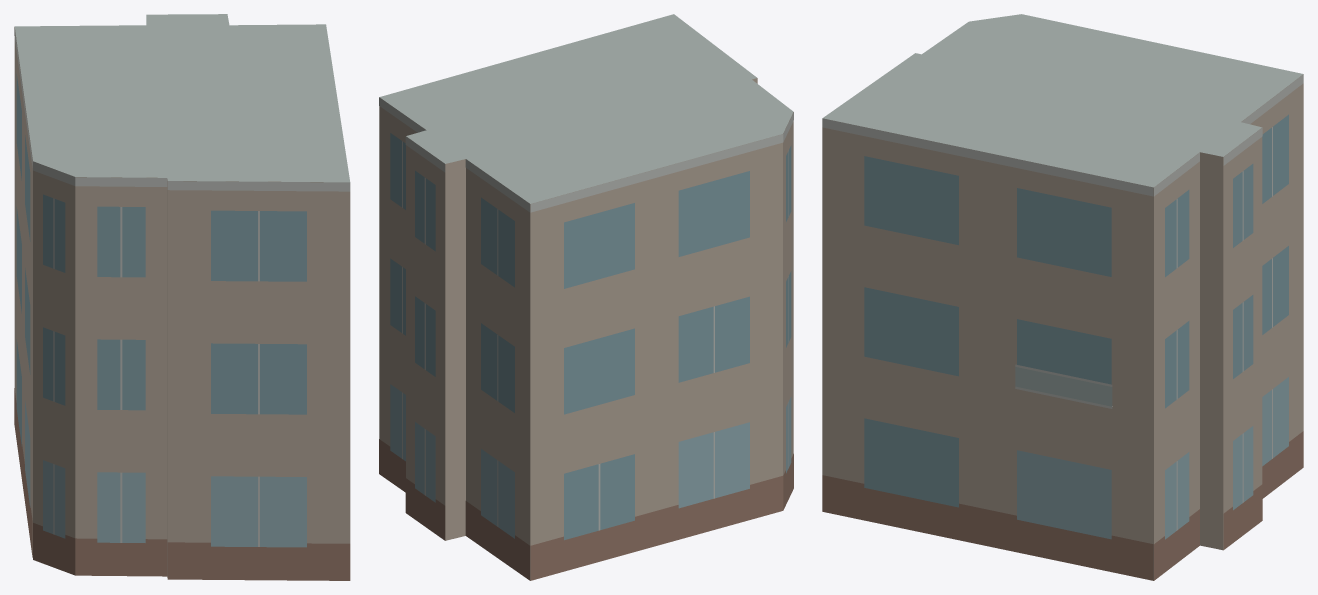
The model's file is survey-upis-32495015.glb.
3 views of the same model, side by side, from view 1: azimuth 30°, elevation 25°; view 2: azimuth 150°, elevation 25°; view 3: azimuth 270°, elevation 25° (orthographic). The views are drawn at different scales.
Parts seen in each view (by area): view 1: survey-upis-32495015.tmp; view 2: survey-upis-32495015.tmp; view 3: survey-upis-32495015.tmp.
Boxes of the visible parts, bbox=[...] form: survey-upis-32495015.tmp: bbox=[14, 14, 350, 580]; survey-upis-32495015.tmp: bbox=[379, 14, 793, 580]; survey-upis-32495015.tmp: bbox=[822, 14, 1303, 580].
Size of the model in its own units: 9.94 by 10.5 by 11.65.
